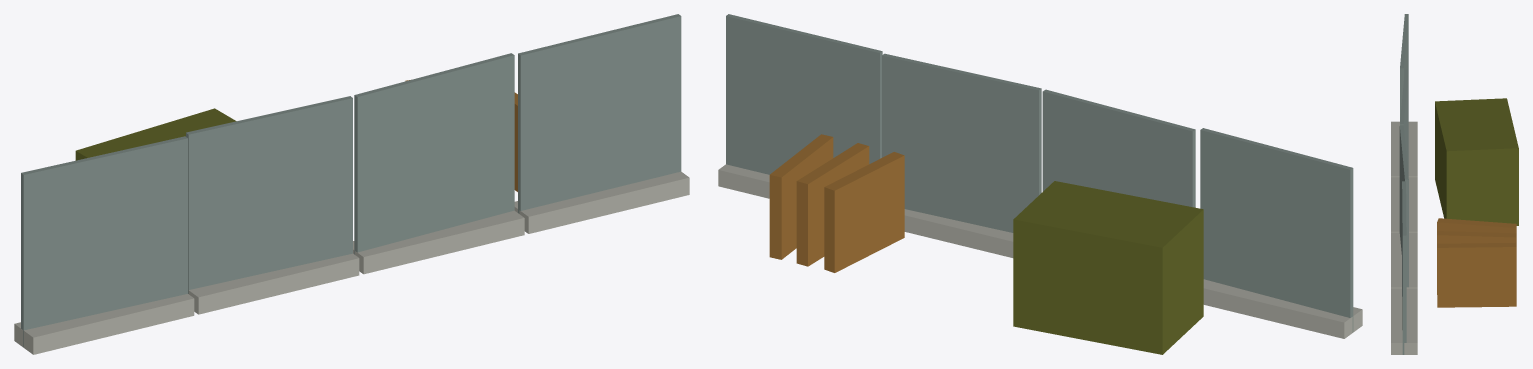
File: SM_BarricadaCivil_v2_Vallas_e0_Sano_LOD0.fbx
3 renders of one model, left to right at view 1: azimuth 30°, elevation 25°; view 2: azimuth 150°, elevation 25°; view 3: azimuth 270°, elevation 25°, orthographic. The views are drawn at different scales.
Parts seen in each view (by area): view 1: SM_barricada_civil_v8_LOD0; view 2: SM_barricada_civil_v8_LOD0; view 3: SM_barricada_civil_v8_LOD0.
Boxes of the visible parts, <box> form: SM_barricada_civil_v8_LOD0: <box>14,14,689,354</box>; SM_barricada_civil_v8_LOD0: <box>718,14,1362,354</box>; SM_barricada_civil_v8_LOD0: <box>1391,14,1518,354</box>.
Size of the model in its own units: 7.95 by 2 by 1.94.
